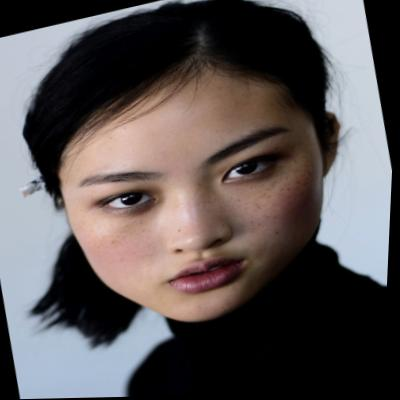netural: (44, 52, 352, 345)
